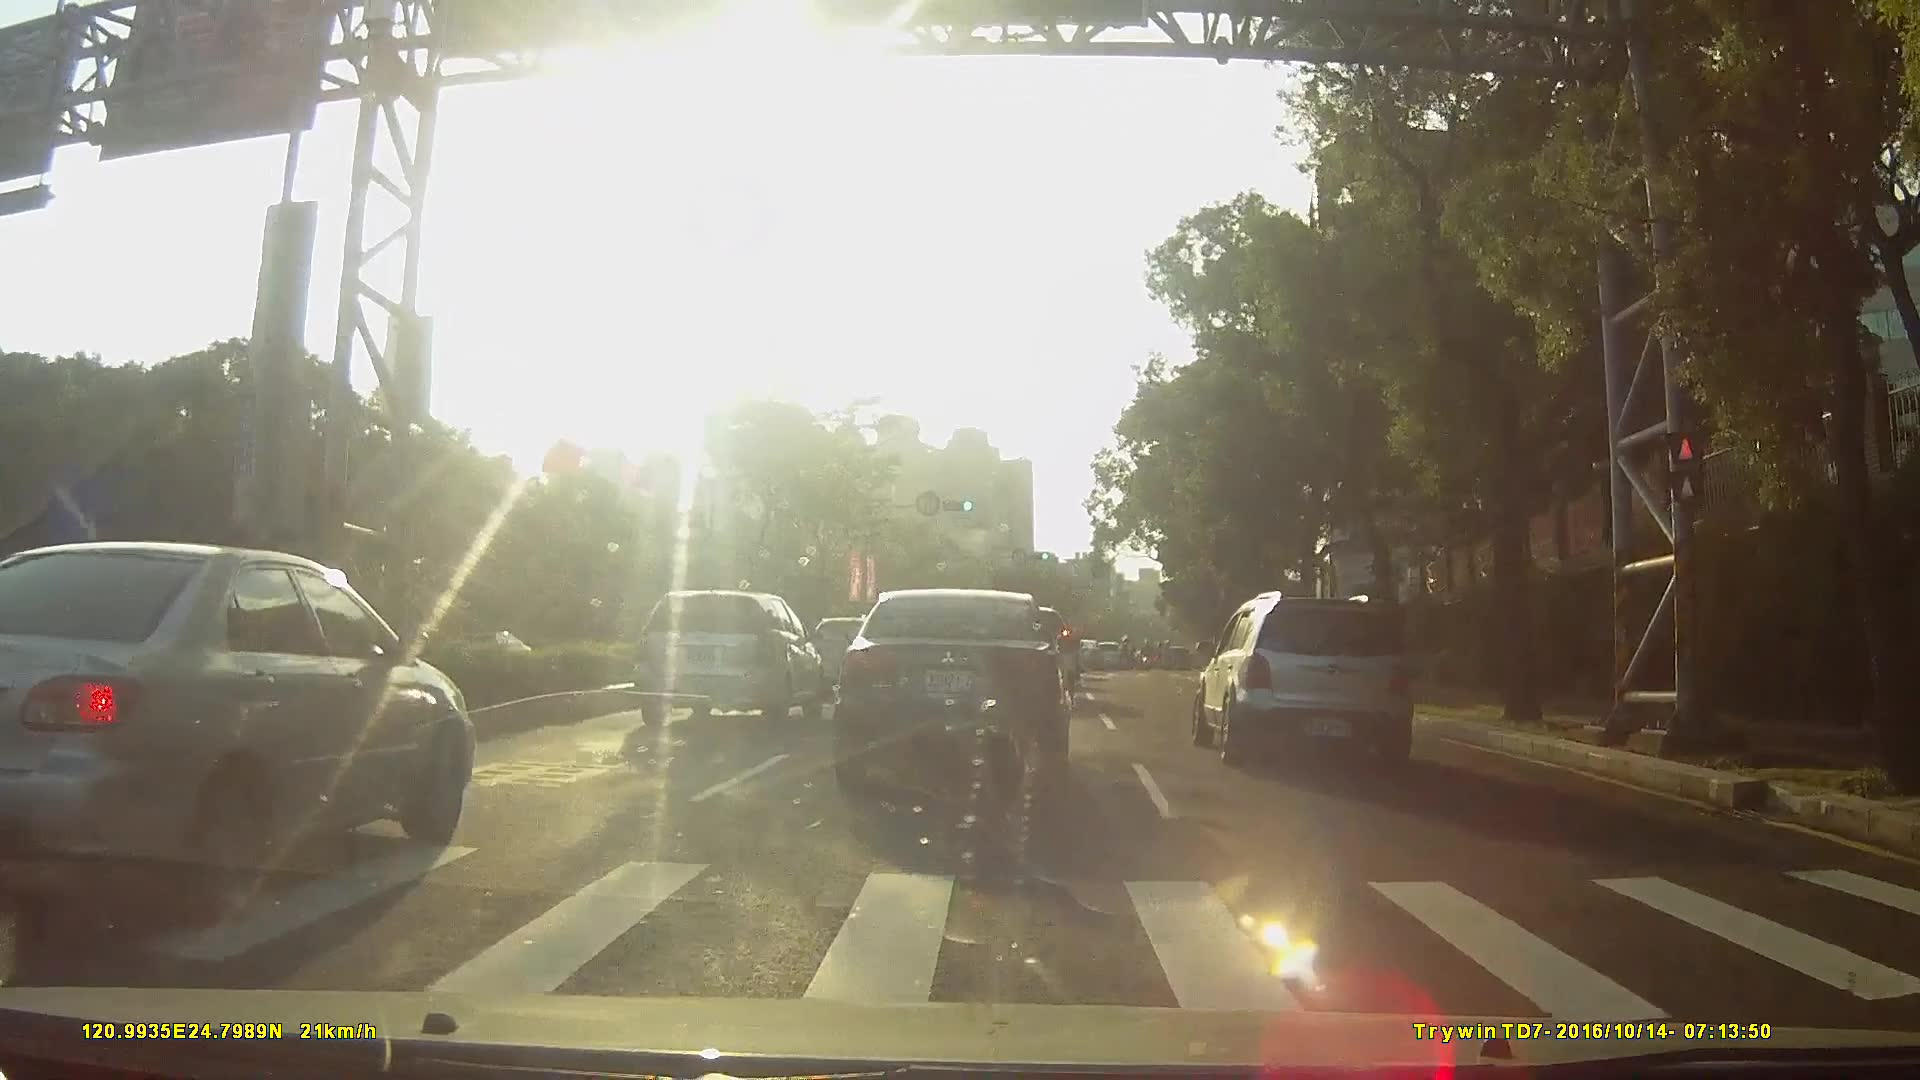vehicle: (1, 535, 484, 914), (836, 585, 1069, 798), (1183, 595, 1429, 785), (624, 589, 822, 727), (1063, 640, 1098, 675), (1085, 642, 1122, 673)
